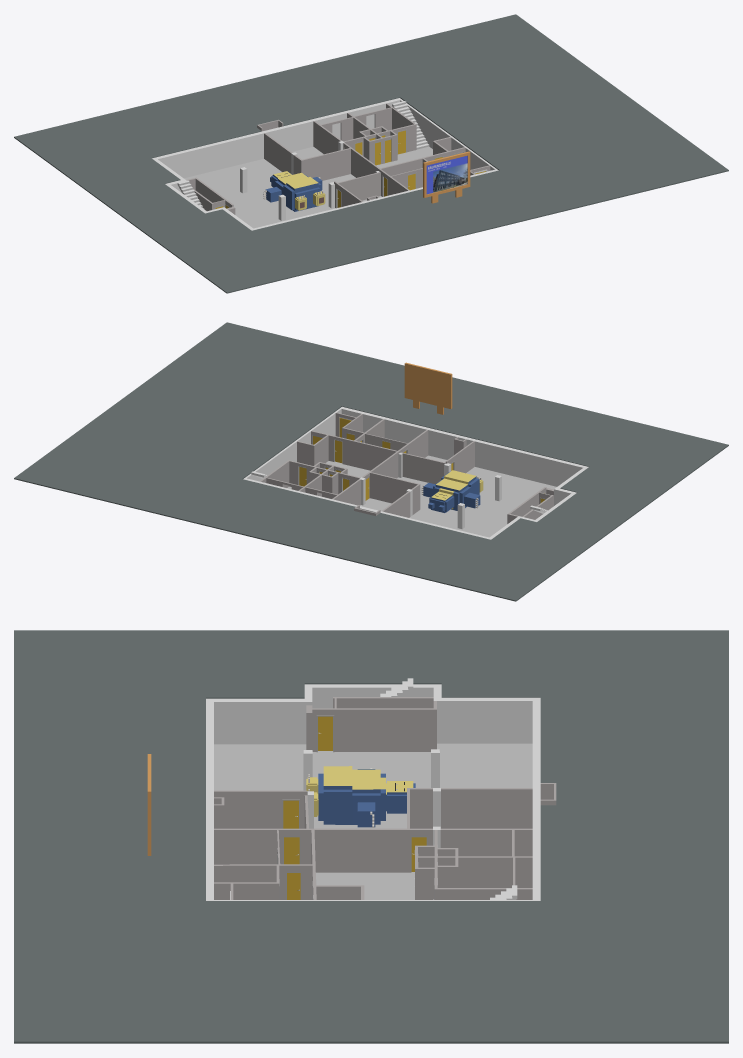
Rendered from RiihimakiEverything.glb.
3 renders of one model, top to bottom at view 1: azimuth 30°, elevation 25°; view 2: azimuth 150°, elevation 25°; view 3: azimuth 270°, elevation 25°, orthographic. The views are drawn at different scales.
Parts seen in each view (by area): view 1: FFL, IfcWallStandardCase/Basic Wall:Perusmuurit - 400mm Concrete: (×2), IfcSlab/Floor:AP 300mm:485948, Billboard, Snorlax, IfcWallStandardCase/Basic Wall:VS Kantava- 160mm:512328, IfcWallStandardCase/Basic Wall:Perusmuurit - 180mm Concrete:, IfcWallStandardCase/Basic Wall:VS Kantava- 160mm:493617, IfcWallStandardCase/Basic Wall:VS - 140mm:493486, IfcWallStandardCase/Basic Wall:VS Kantava- 160mm:511132, IfcWallStandardCase/Basic Wall:VS Kantava- 160mm:499501, IfcWallStandardCase/Basic Wall:VS Kantava- 160mm:513324 (+1 smaller); view 2: FFL, IfcWallStandardCase/Basic Wall:Perusmuurit - 400mm Concrete: (×2), IfcSlab/Floor:AP 300mm:485948, Billboard, Snorlax, IfcWallStandardCase/Basic Wall:VS Kantava- 160mm:499501, IfcWallStandardCase/Basic Wall:Perusmuurit - 180mm Concrete:, IfcWallStandardCase/Basic Wall:VS - 140mm:493486, IfcWallStandardCase/Basic Wall:VS Kantava- 160mm:493617, IfcWallStandardCase/Basic Wall:VS Kantava- 160mm:512328, IfcWallStandardCase/Basic Wall:VS - 140mm:492581; view 3: FFL, IfcSlab/Floor:AP 300mm:485948, IfcWallStandardCase/Basic Wall:Perusmuurit - 400mm Concrete: (×4), IfcWallStandardCase/Basic Wall:VS Kantava- 160mm:493617, Snorlax, IfcWallStandardCase/Basic Wall:VS Kantava-170mm:517119, IfcWallStandardCase/Basic Wall:VS Kantava- 160mm:511132, IfcWallStandardCase/Basic Wall:VS - 140mm:492581, IfcWallStandardCase/Basic Wall:VS Kantava- 160mm:504300, IfcWallStandardCase/Basic Wall:VS Kantava- 160mm:513324, IfcWallStandardCase/Basic Wall:VS Kantava- 160mm:501426, IfcWallStandardCase/Basic Wall:Perusmuurit - 400mm Concrete (+6 smaller).
Part boxes in pixels (x1=…): FFL: x1=14, y1=14, x2=728, y2=293; IfcWallStandardCase/Basic Wall:Perusmuurit - 400mm Concrete: (×2): x1=152, y1=98, x2=498, y2=230; IfcSlab/Floor:AP 300mm:485948: x1=184, y1=146, x2=432, y2=228; Billboard: x1=423, y1=151, x2=470, y2=203; Snorlax: x1=263, y1=171, x2=325, y2=211; IfcWallStandardCase/Basic Wall:VS Kantava- 160mm:512328: x1=302, y1=148, x2=350, y2=180; IfcWallStandardCase/Basic Wall:Perusmuurit - 180mm Concrete:: x1=398, y1=98, x2=496, y2=170; IfcWallStandardCase/Basic Wall:VS Kantava- 160mm:493617: x1=343, y1=142, x2=409, y2=196; IfcWallStandardCase/Basic Wall:VS - 140mm:493486: x1=338, y1=172, x2=380, y2=200; IfcWallStandardCase/Basic Wall:VS Kantava- 160mm:511132: x1=264, y1=133, x2=292, y2=173; IfcWallStandardCase/Basic Wall:VS Kantava- 160mm:499501: x1=380, y1=147, x2=465, y2=175; IfcWallStandardCase/Basic Wall:VS Kantava- 160mm:513324: x1=313, y1=121, x2=341, y2=154; FFL: x1=14, y1=322, x2=728, y2=601; IfcWallStandardCase/Basic Wall:Perusmuurit - 400mm Concrete: (×2): x1=245, y1=406, x2=588, y2=539; IfcSlab/Floor:AP 300mm:485948: x1=287, y1=455, x2=556, y2=537; Billboard: x1=404, y1=362, x2=452, y2=414; Snorlax: x1=421, y1=470, x2=483, y2=512; IfcWallStandardCase/Basic Wall:VS Kantava- 160mm:499501: x1=311, y1=430, x2=396, y2=470; IfcWallStandardCase/Basic Wall:Perusmuurit - 180mm Concrete:: x1=243, y1=408, x2=341, y2=481; IfcWallStandardCase/Basic Wall:VS - 140mm:493486: x1=400, y1=452, x2=445, y2=484; IfcWallStandardCase/Basic Wall:VS Kantava- 160mm:493617: x1=362, y1=429, x2=428, y2=497; IfcWallStandardCase/Basic Wall:VS Kantava- 160mm:512328: x1=370, y1=472, x2=418, y2=503; IfcWallStandardCase/Basic Wall:VS - 140mm:492581: x1=445, y1=441, x2=474, y2=473; FFL: x1=14, y1=630, x2=728, y2=1043; IfcSlab/Floor:AP 300mm:485948: x1=214, y1=743, x2=532, y2=899; IfcWallStandardCase/Basic Wall:Perusmuurit - 400mm Concrete: (×4): x1=206, y1=697, x2=540, y2=900; IfcWallStandardCase/Basic Wall:VS Kantava- 160mm:493617: x1=214, y1=828, x2=432, y2=872; Snorlax: x1=306, y1=766, x2=415, y2=827; IfcWallStandardCase/Basic Wall:VS Kantava-170mm:517119: x1=312, y1=708, x2=436, y2=751; IfcWallStandardCase/Basic Wall:VS Kantava- 160mm:511132: x1=441, y1=788, x2=532, y2=828; IfcWallStandardCase/Basic Wall:VS - 140mm:492581: x1=214, y1=790, x2=307, y2=828; IfcWallStandardCase/Basic Wall:VS Kantava- 160mm:504300: x1=418, y1=856, x2=532, y2=887; IfcWallStandardCase/Basic Wall:VS Kantava- 160mm:513324: x1=440, y1=828, x2=532, y2=856; IfcWallStandardCase/Basic Wall:VS Kantava- 160mm:501426: x1=214, y1=864, x2=312, y2=899; IfcWallStandardCase/Basic Wall:Perusmuurit - 400mm Concrete: x1=312, y1=684, x2=441, y2=708.
Size of the model in its own units: 49.75 by 6.75 by 36.55.
20 materials, 1 textured.
